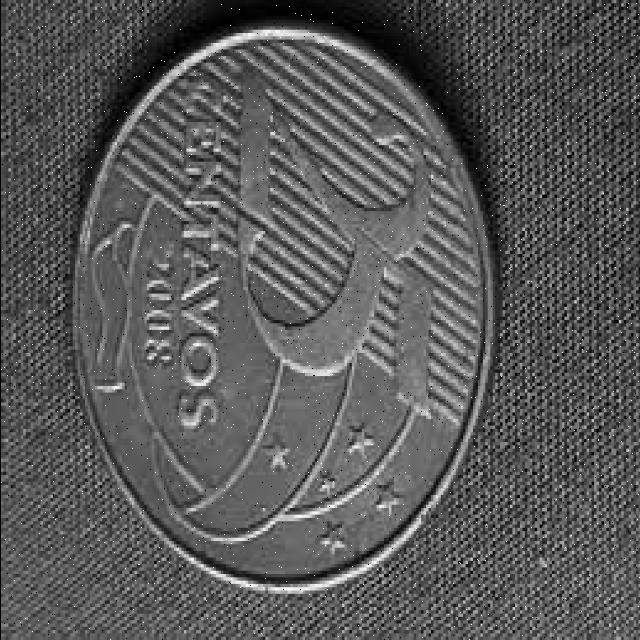25 cent: (84, 29, 492, 582)
